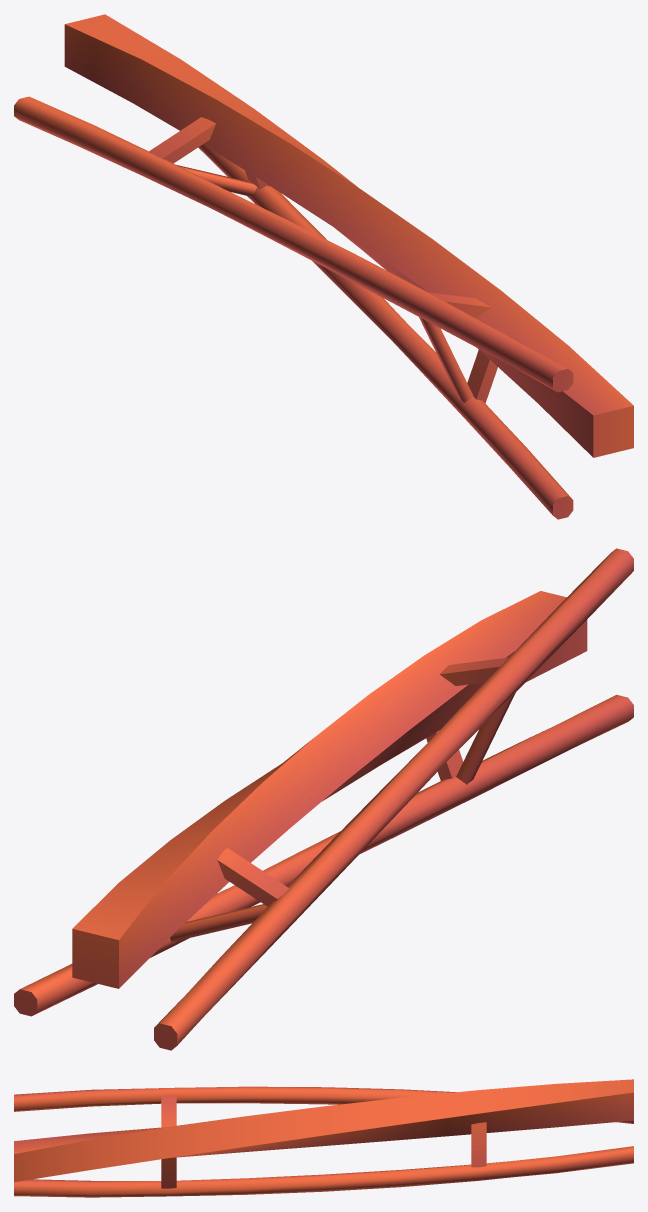
File: coaster-hanging-straight-skew-left-side.glb
3 views of the same model, one above another, from view 1: azimuth 30°, elevation 25°; view 2: azimuth 150°, elevation 25°; view 3: azimuth 270°, elevation 25° (orthographic). The views are drawn at different scales.
Parts seen in each view (by area): view 1: coaster-hanging-straight-skew-left-side; view 2: coaster-hanging-straight-skew-left-side; view 3: coaster-hanging-straight-skew-left-side.
Part boxes in pixels (x1=…): coaster-hanging-straight-skew-left-side: x1=14, y1=14, x2=633, y2=519; coaster-hanging-straight-skew-left-side: x1=14, y1=548, x2=633, y2=1050; coaster-hanging-straight-skew-left-side: x1=14, y1=1079, x2=633, y2=1197.
Size of the model in its own units: 0.7622 by 0.7622 by 4.
Materials: 1 (1 with a texture image).
